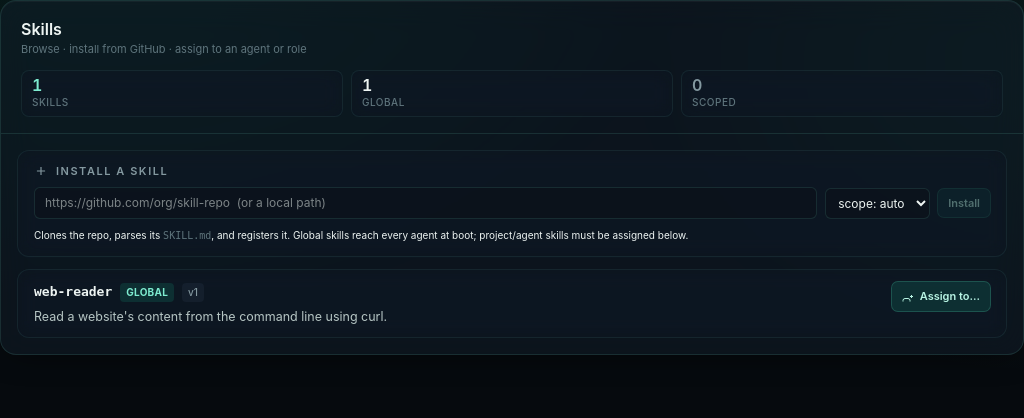
SkillsView — install from GitHub › surfaces a friendly install error (ok=false) without crashing
Type "https://github.com/org/bad" into the field named "Skill GitHub URL" at {"x": 426, "y": 203}, box [34, 187, 817, 219]
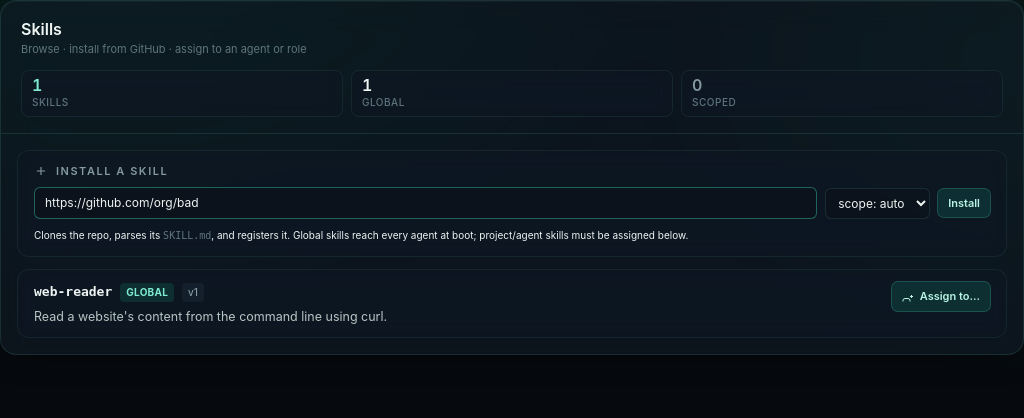
Click the button "Install" at {"x": 964, "y": 203}, box [938, 189, 990, 217]
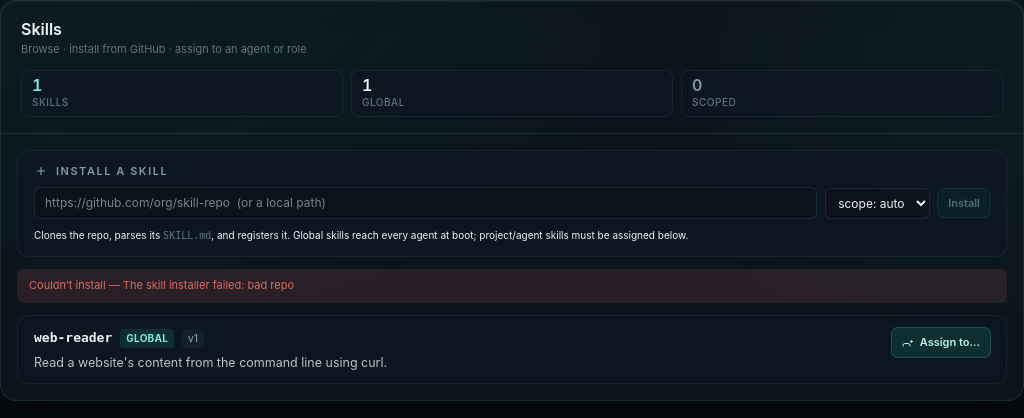
Result: the text "Couldn’t install — The skill installer failed: bad repo" is shown at [17, 269, 1007, 303]
